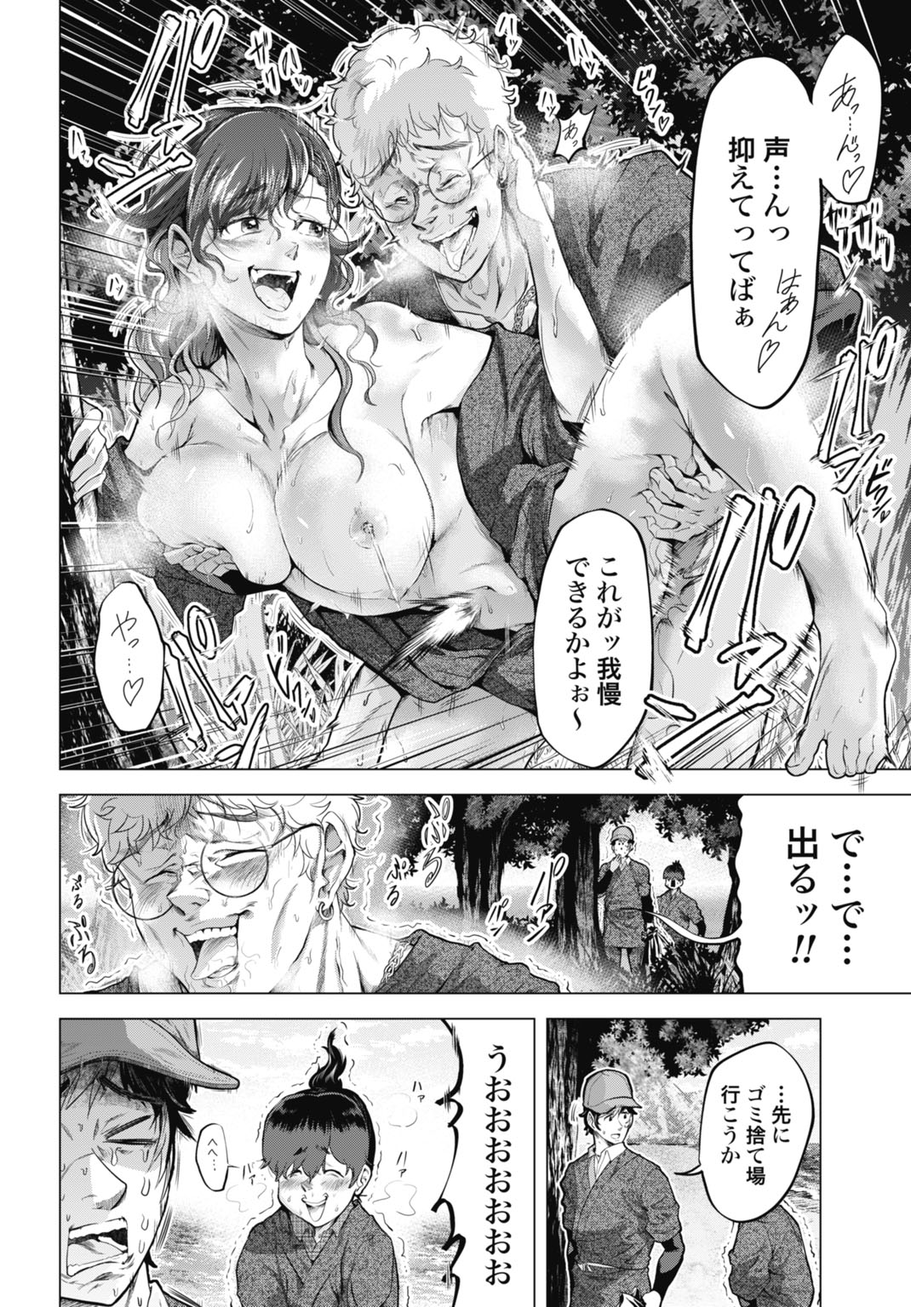bubbles: (687, 30, 886, 422), (714, 796, 911, 994), (526, 504, 656, 770), (421, 1017, 534, 1307), (682, 1036, 820, 1231), (89, 569, 175, 743), (194, 1116, 238, 1203)
